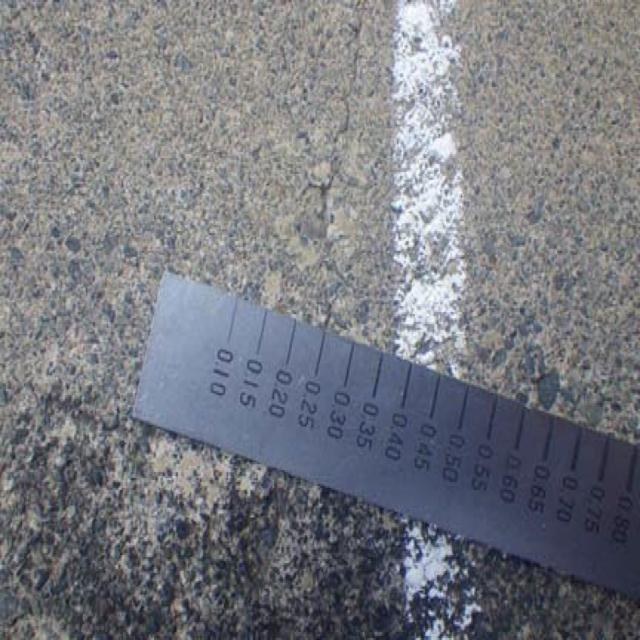crack: (308, 34, 366, 317)
